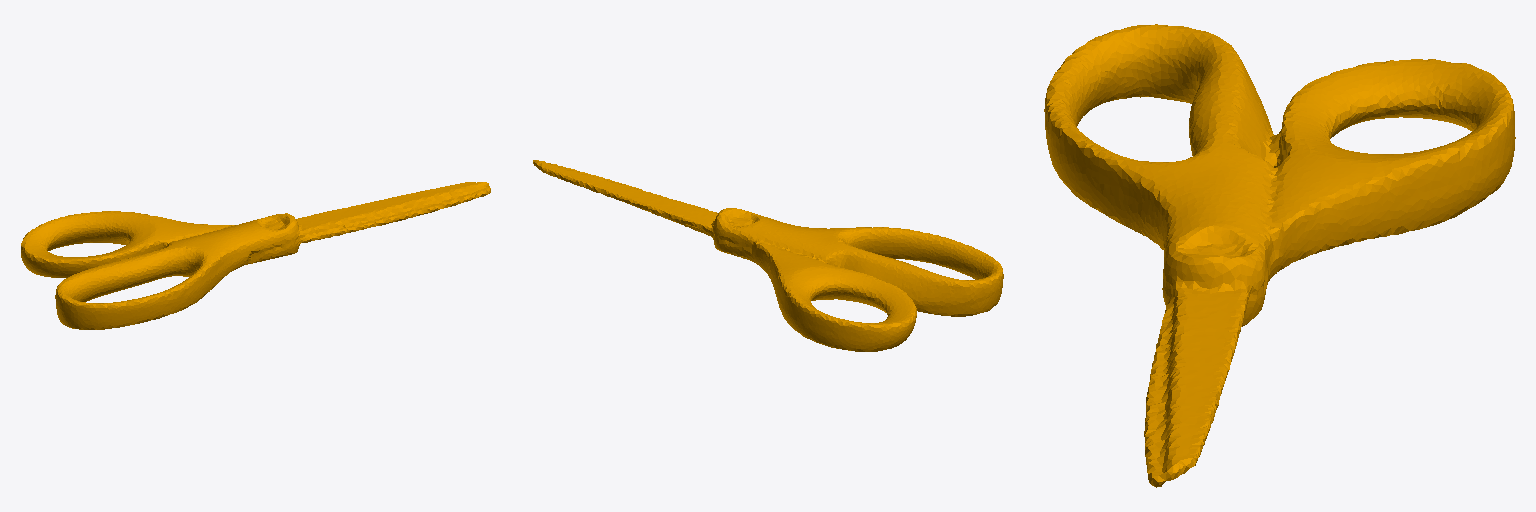
The robot description file, URDF, robot "model.urdf":
<?xml version="0.0" ?>
<robot name="model.urdf">
  <link name="baseLink">
    <contact>
      <lateral_friction value="1.0"/>
      <rolling_friction value="0.0"/>
      <contact_cfm value="0.0"/>
      <contact_erp value="1.0"/>
    </contact>
    <inertial>
       <mass value=".082"/>
       <inertia ixx="1e-3" ixy="0" ixz="0" iyy="1e-3" iyz="0" izz="1e-3"/>
    </inertial>
    <visual>
      <geometry>
        <mesh filename="textured_simple_reoriented.obj" scale="1 1 1"/>
      </geometry>
    </visual>
    <collision>
      <geometry>
    	 	<mesh filename="collision_vhacd.obj" scale="1 1 1"/>
      </geometry>
    </collision>
  </link>
</robot>

--- What the picture shows (computed from the rendered views, not written in the file) ---
Views: 3 orthographic renders of the robot side by side, from view 1: azimuth 30°, elevation 25°; view 2: azimuth 150°, elevation 25°; view 3: azimuth 270°, elevation 25°.
Robot: model.urdf — 1 links, 0 joints (none); root link baseLink; default pose: all joints at 0.
Links seen in each view (by area): view 1: baseLink; view 2: baseLink; view 3: baseLink.
Link boxes in pixels (x1,y1,x2,y2): baseLink: (21,182,490,329); baseLink: (533,160,1003,351); baseLink: (1044,24,1515,487).
Bounding box of the posed robot: 0.2039 × 0.0872 × 0.0195 m (x, y, z).
1 mesh visuals loaded from 1 distinct referenced files (1 OBJ).